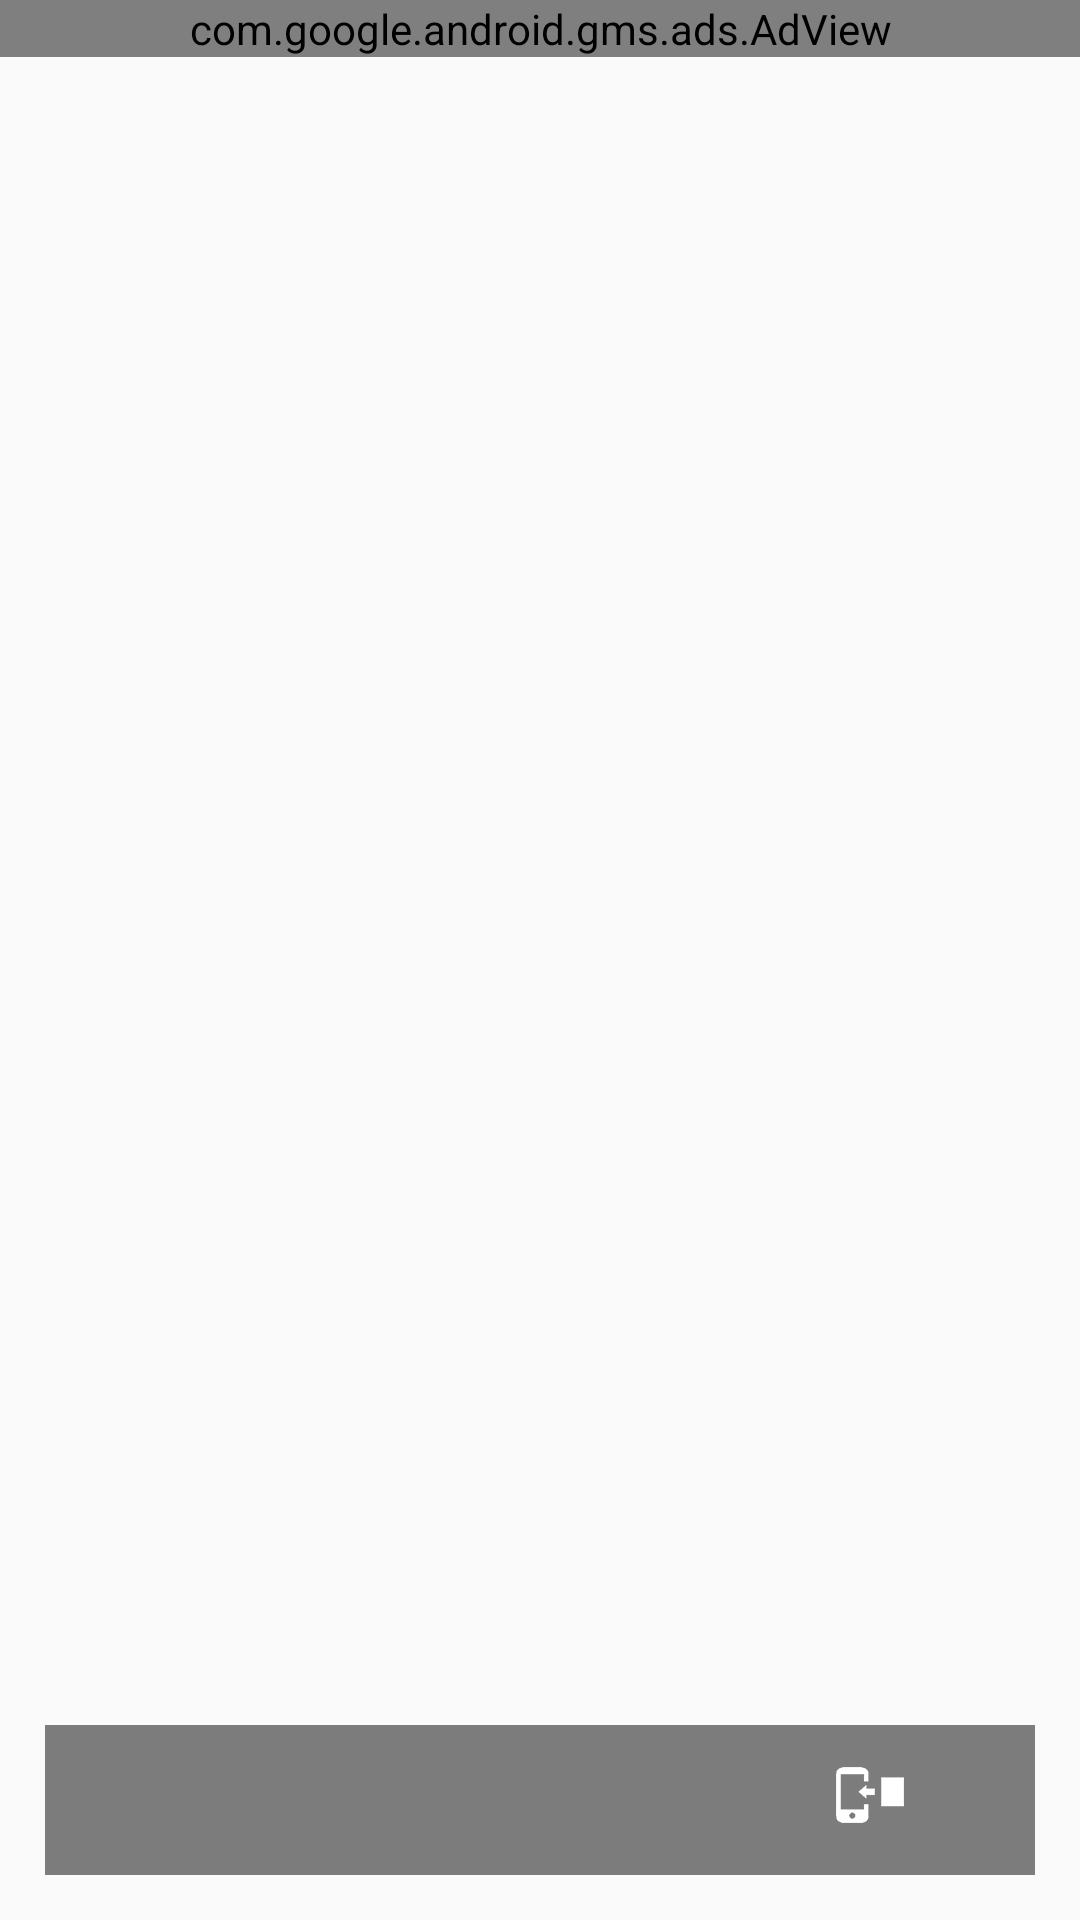

Named icons in this screenshot (1080px×1920px) and their centers, (x=x, y=y):
setaswallpaper: (x=870, y=1795)
